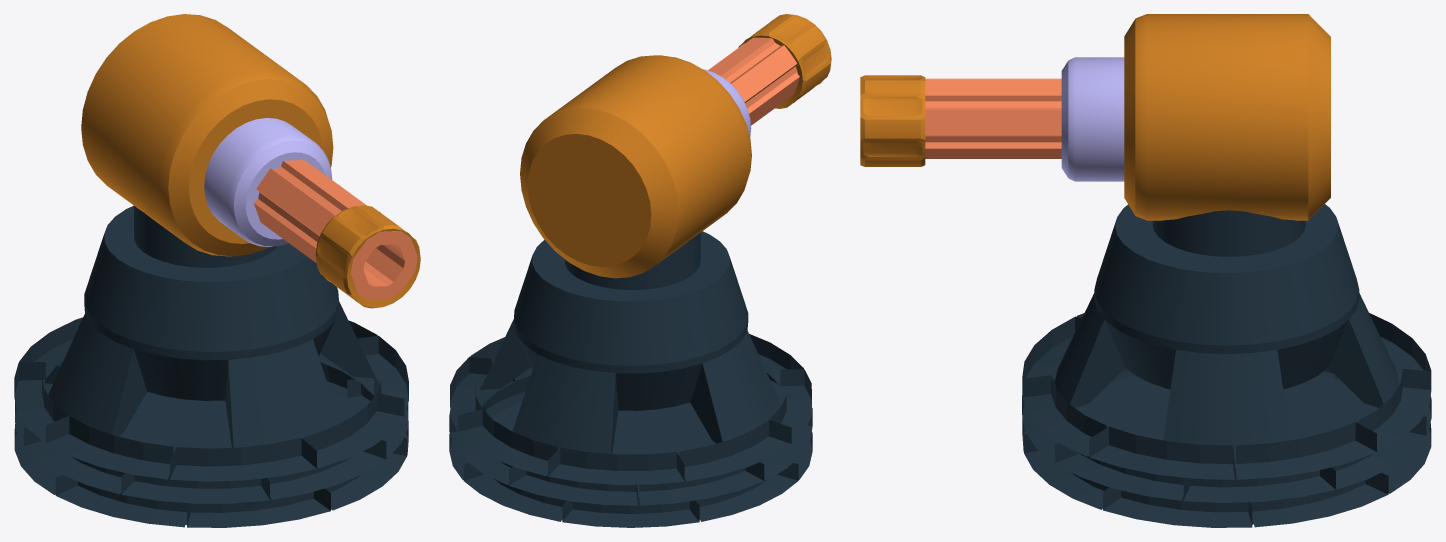
The model's file is Level1_Turret.fbx.
The picture shows the model from 3 angles, left to right: view 1: azimuth 30°, elevation 25°; view 2: azimuth 150°, elevation 25°; view 3: azimuth 270°, elevation 25°; orthographic projection. The views are drawn at different scales.
Visible parts, largest first — view 1: Cylinder.019, Cylinder.003, Cylinder.021, Circle.229, Cylinder.020, Cylinder.004, Cylinder.026, Cylinder.024, Cylinder.023, Cylinder.025, Cylinder.022, Circle.228 (+1 smaller); view 2: Cylinder.019, Cylinder.003, Cylinder.020, Cylinder.021, Cylinder.026, Cylinder.025, Circle.229, Cylinder.022, Cylinder.023, Cylinder.024, Circle.228, Cylinder.018 (+1 smaller); view 3: Cylinder.019, Cylinder.003, Circle.229, Cylinder.021, Cylinder.020, Cylinder.004, Cylinder.026, Circle.228, Cylinder.024, Cylinder.018, Cylinder.022, Cylinder.025 (+1 smaller).
Part boxes in pixels (<box>): Cylinder.019: <box>48,205,375,447</box>; Cylinder.003: <box>81,14,333,256</box>; Cylinder.021: <box>19,317,404,479</box>; Circle.229: <box>254,160,417,299</box>; Cylinder.020: <box>14,335,408,481</box>; Cylinder.004: <box>204,118,332,246</box>; Cylinder.026: <box>29,362,373,524</box>; Cylinder.024: <box>55,381,407,527</box>; Cylinder.023: <box>23,353,386,499</box>; Cylinder.025: <box>14,379,408,527</box>; Cylinder.022: <box>15,366,408,503</box>; Circle.228: <box>315,205,420,308</box>; Cylinder.019: <box>480,231,781,453</box>; Cylinder.003: <box>520,55,751,278</box>; Cylinder.020: <box>458,334,803,481</box>; Cylinder.021: <box>450,356,811,484</box>; Cylinder.026: <box>482,376,715,497</box>; Cylinder.025: <box>463,391,798,521</box>; Circle.229: <box>708,21,799,125</box>; Cylinder.022: <box>449,367,812,505</box>; Cylinder.023: <box>449,379,812,505</box>; Cylinder.024: <box>449,406,812,527</box>; Circle.228: <box>738,14,831,108</box>; Cylinder.018: <box>565,233,700,289</box>; Cylinder.019: <box>1054,204,1398,455</box>; Cylinder.003: <box>1124,14,1330,220</box>; Circle.229: <box>925,78,1061,158</box>; Cylinder.021: <box>1022,313,1431,479</box>; Cylinder.020: <box>1022,316,1431,479</box>; Cylinder.004: <box>1061,57,1124,181</box>; Cylinder.026: <box>1075,368,1378,524</box>; Circle.228: <box>860,75,925,166</box>; Cylinder.024: <box>1024,370,1388,527</box>; Cylinder.018: <box>1152,210,1305,256</box>; Cylinder.022: <box>1053,372,1426,500</box>; Cylinder.025: <box>1022,371,1431,527</box>.
Size of the model in its own units: 20.82 by 23.37 by 29.04.
